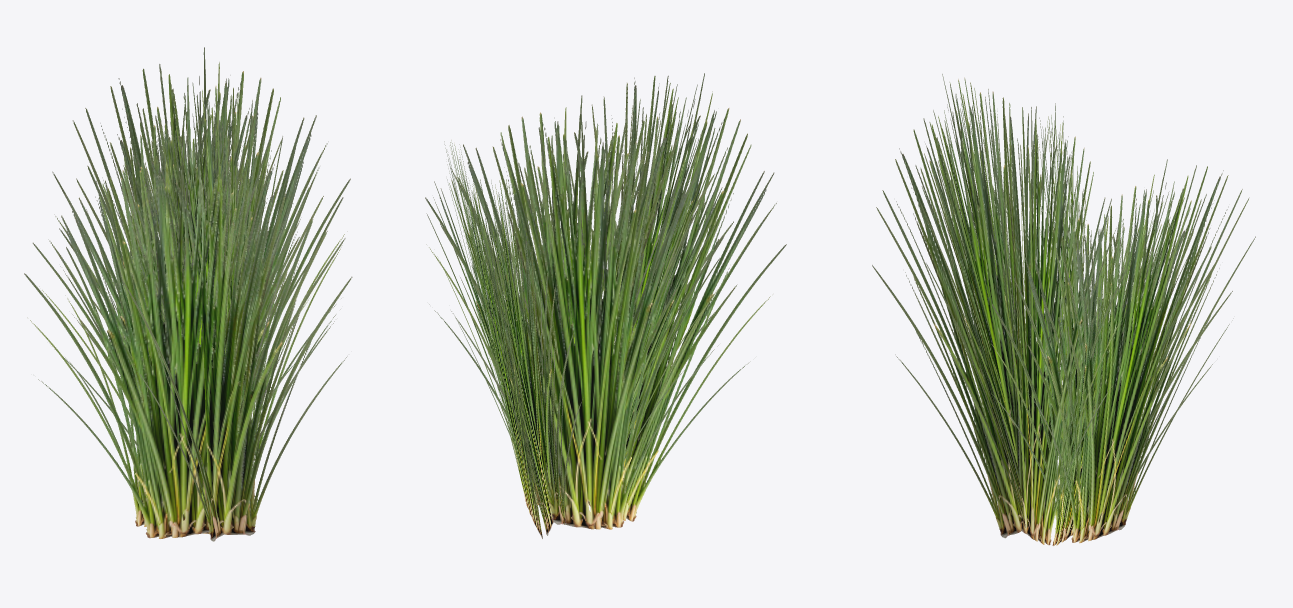
File: grass_clump_01.gltf
3 views of the same model, side by side, from view 1: azimuth 30°, elevation 25°; view 2: azimuth 150°, elevation 25°; view 3: azimuth 270°, elevation 25° (orthographic). The views are drawn at different scales.
Visible parts, largest first — view 1: grass_clump_01; view 2: grass_clump_01; view 3: grass_clump_01.
Boxes of the visible parts, <box> form: grass_clump_01: <box>24,47,352,541</box>; grass_clump_01: <box>425,73,786,538</box>; grass_clump_01: <box>872,74,1255,545</box>.
Size of the model in its own units: 0.5083 by 0.5824 by 0.519.
Materials: 1 (1 with a texture image).
